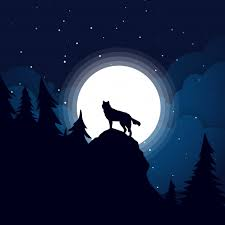Lobo: (97, 100, 151, 140)
